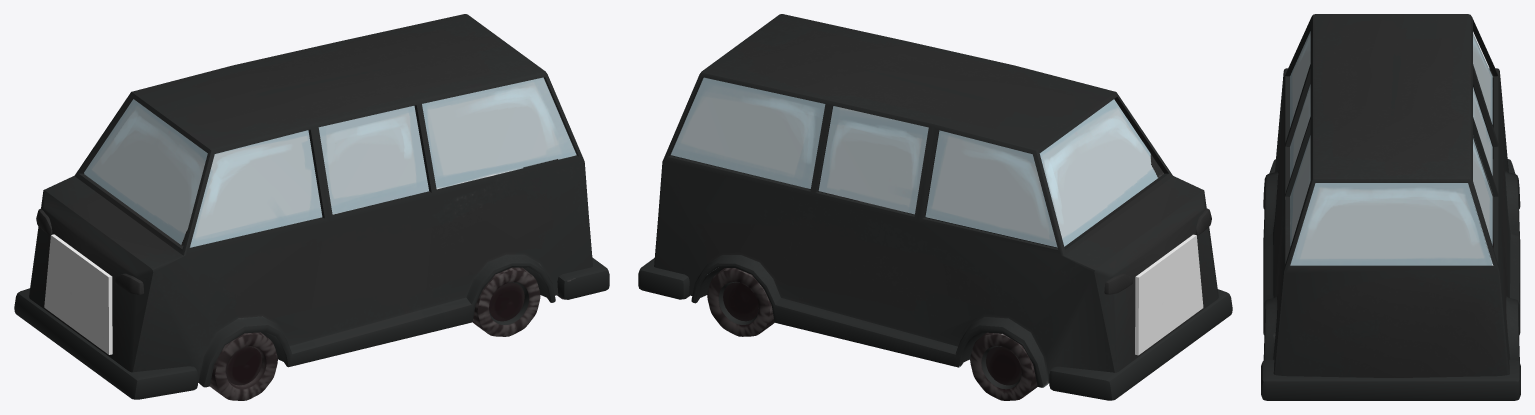
Rendered from Furgo1.fbx.
3 views of the same model, side by side, from view 1: azimuth 30°, elevation 25°; view 2: azimuth 150°, elevation 25°; view 3: azimuth 270°, elevation 25° (orthographic).
Parts seen in each view (by area): view 1: furgo; view 2: furgo; view 3: furgo.
Boxes of the visible parts, x1,y1,x2,y2 form: furgo: (14, 14, 609, 400); furgo: (638, 14, 1232, 400); furgo: (1261, 14, 1520, 400).
Size of the model in its own units: 436 by 212 by 212.
